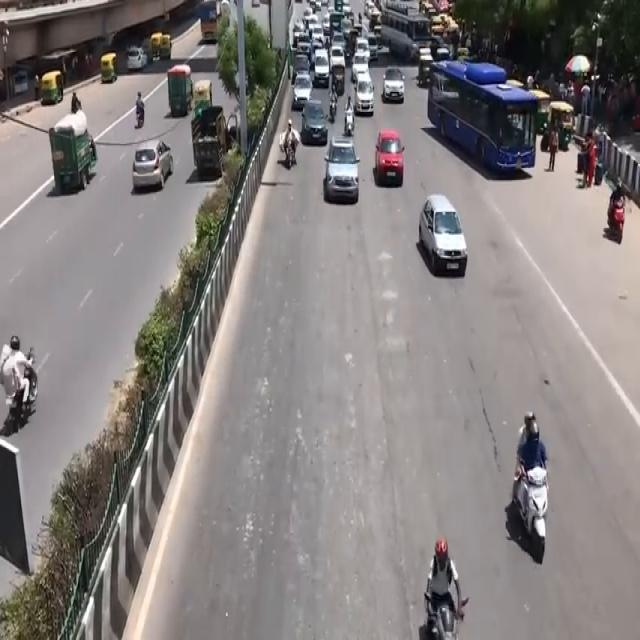BUS: (430, 60, 540, 185)
MOTORCYCLE: (520, 466, 554, 566), (426, 600, 460, 640), (344, 109, 355, 138), (328, 98, 338, 124)
